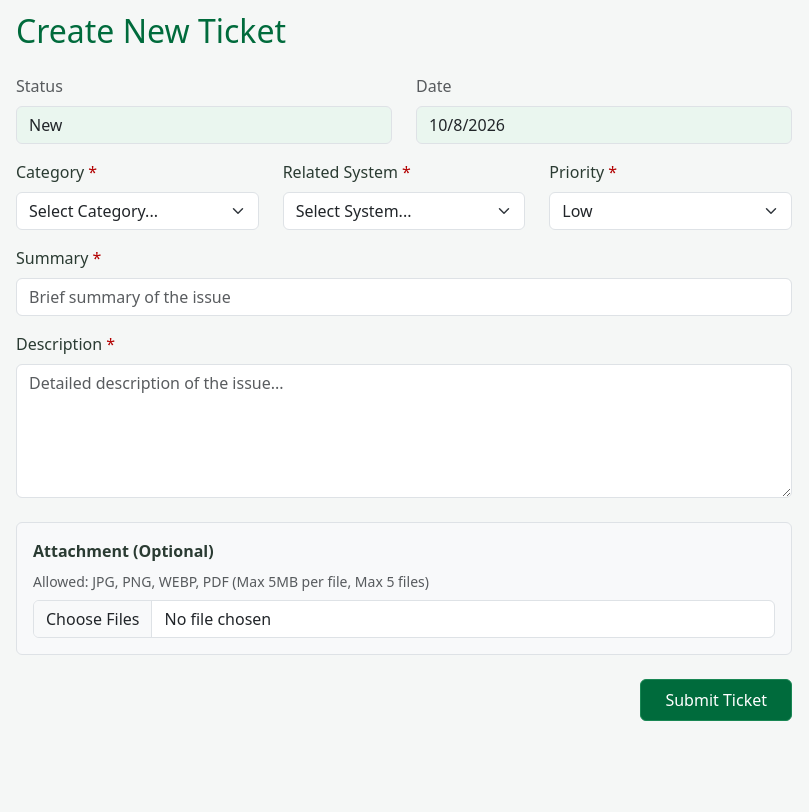
Scenario: CreateTicket Component › should show inline validation errors if form submitted empty
Click the button "Submit Ticket": [716, 700] box [640,679,792,721]
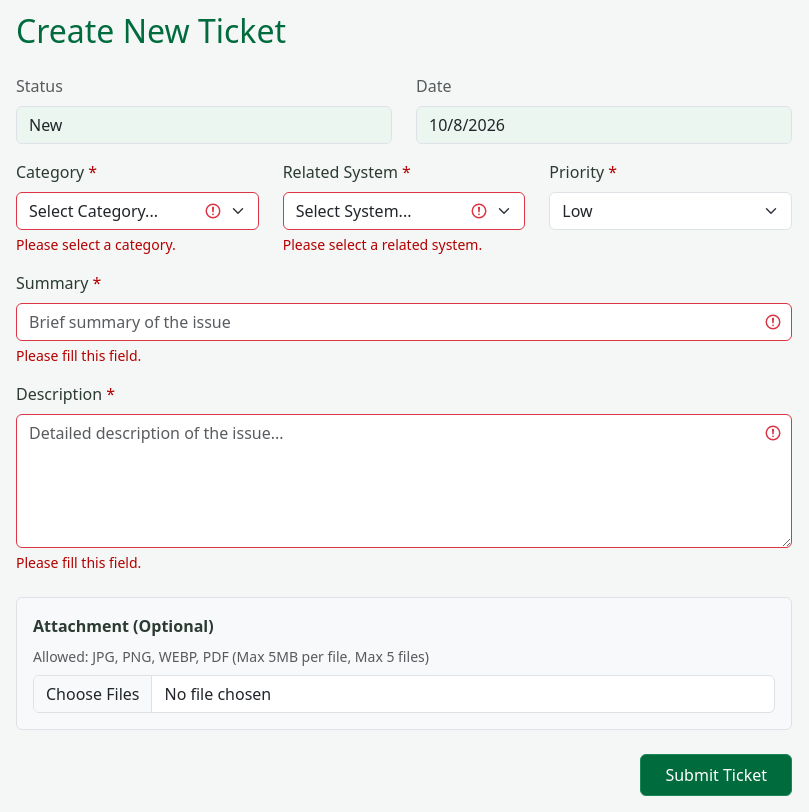
Now the text "Please fill this field." below "Summary" is shown, box [16,346,141,365]
Now the text "Please select a category." is shown, box [16,235,176,254]
Now the text "Please select a related system." is shown, box [283,235,482,254]
